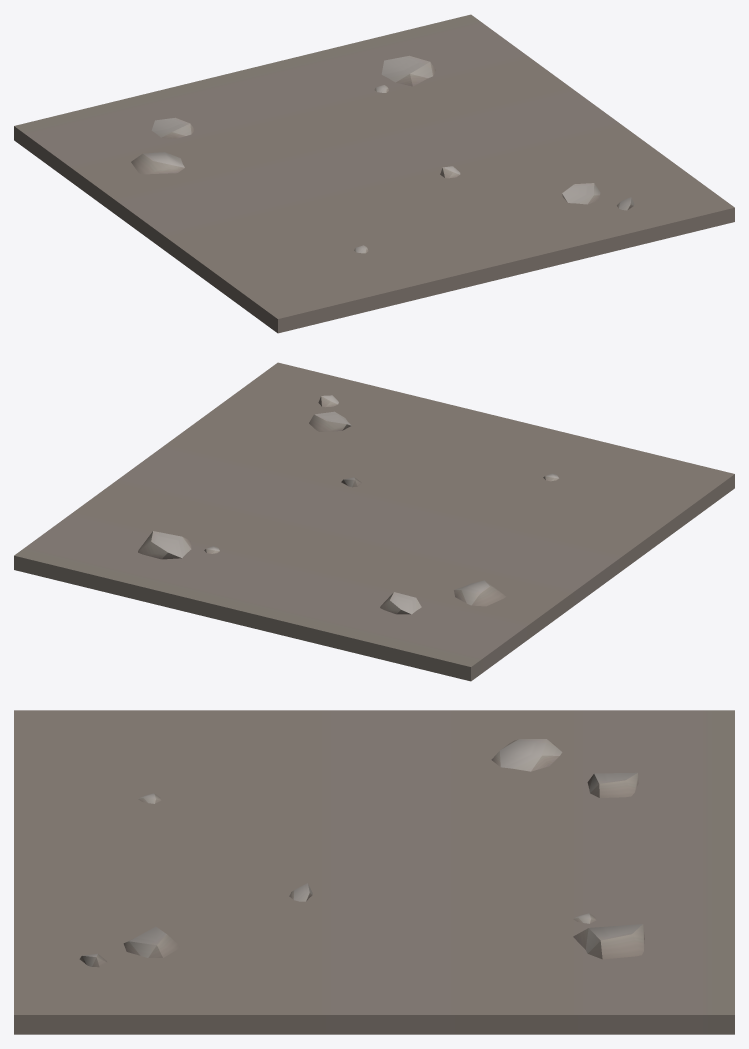
File: floor_dirt_large_gltf.glb
3 renders of one model, top to bottom at view 1: azimuth 30°, elevation 25°; view 2: azimuth 150°, elevation 25°; view 3: azimuth 270°, elevation 25°, orthographic. The views are drawn at different scales.
Parts seen in each view (by area): view 1: floor_dirt_large; view 2: floor_dirt_large; view 3: floor_dirt_large.
Boxes of the visible parts, x1=… form: floor_dirt_large: x1=14, y1=14, x2=734, y2=333; floor_dirt_large: x1=14, y1=362, x2=734, y2=681; floor_dirt_large: x1=14, y1=710, x2=734, y2=1034.
Size of the model in its own units: 4 by 0.2085 by 4.
Materials: 1 (1 with a texture image).
